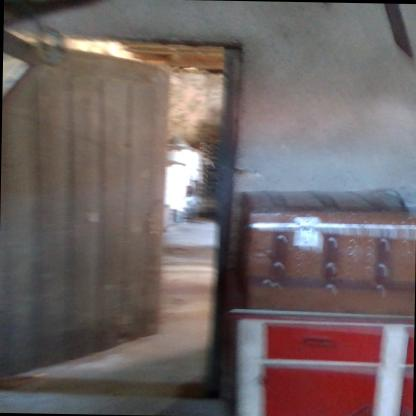semi: (0, 24, 246, 394)
